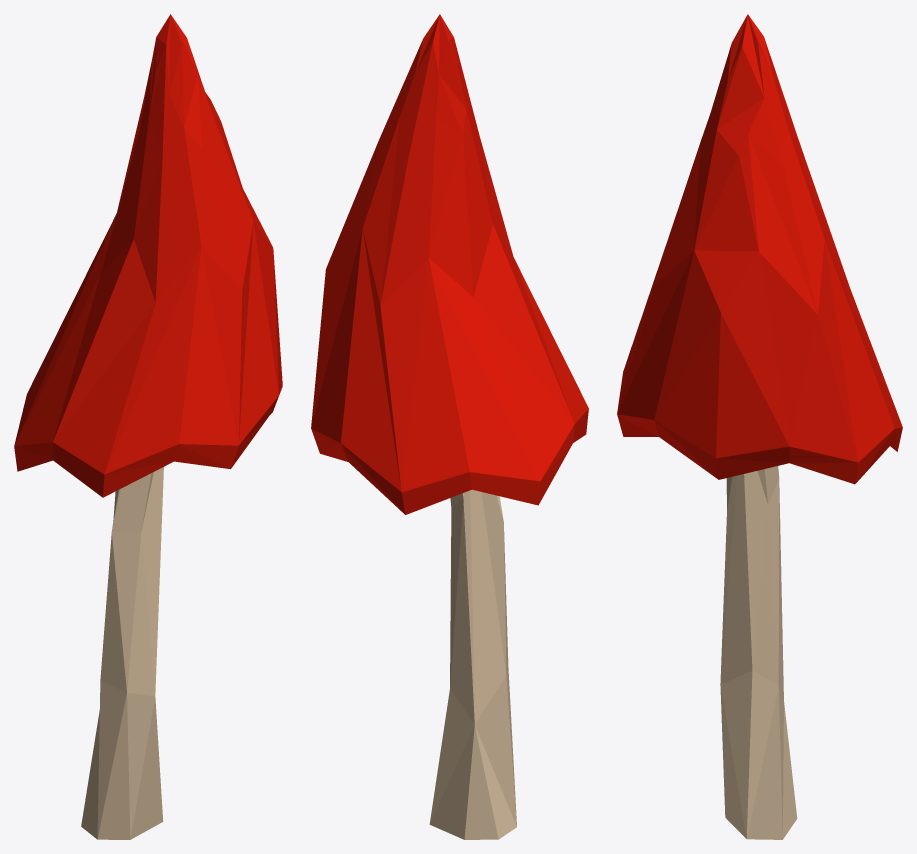
The model's file is Mushroom 2_1.fbx.
The picture shows the model from 3 angles, left to right: view 1: azimuth 30°, elevation 25°; view 2: azimuth 150°, elevation 25°; view 3: azimuth 270°, elevation 25°; orthographic projection. The views are drawn at different scales.
Visible parts, largest first — view 1: Mushroom 2_1; view 2: Mushroom 2_1; view 3: Mushroom 2_1.
Boxes of the visible parts, box(x1,y1,x2,y2) form: Mushroom 2_1: box(14, 14, 282, 839); Mushroom 2_1: box(311, 14, 588, 839); Mushroom 2_1: box(617, 14, 902, 839).
Bounding box in the file's own units: 0.1848 × 0.611 × 0.1909.
